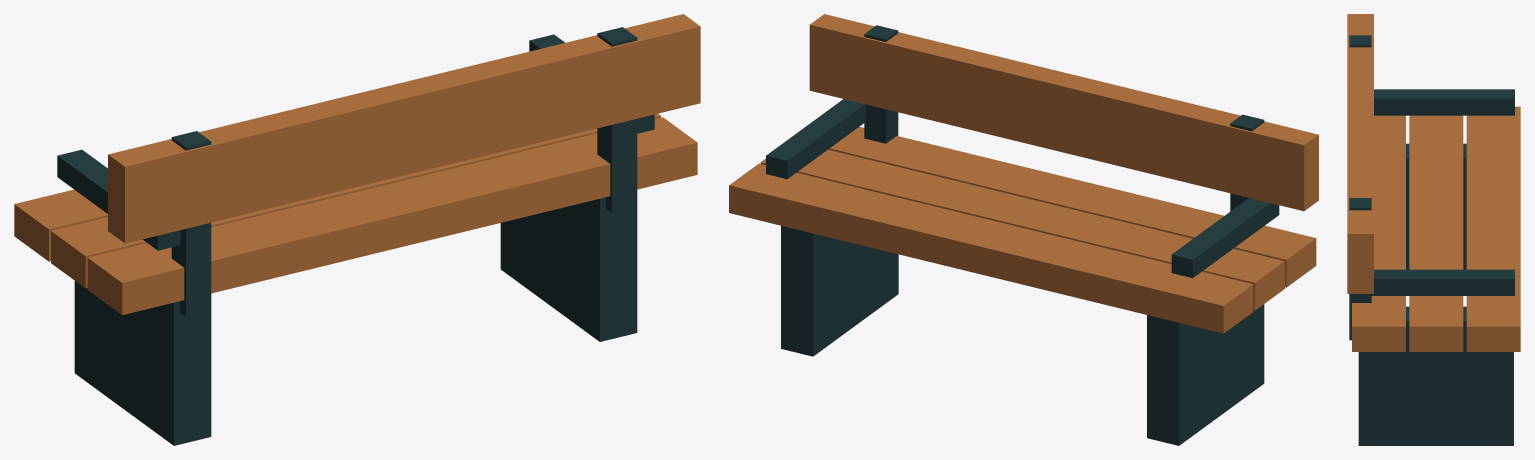
Rendered from bench_wood.fbx.
3 views of the same model, side by side, from view 1: azimuth 30°, elevation 25°; view 2: azimuth 150°, elevation 25°; view 3: azimuth 270°, elevation 25° (orthographic). The views are drawn at different scales.
Parts seen in each view (by area): view 1: bench_wood; view 2: bench_wood; view 3: bench_wood.
Part boxes in pixels (bbox=[...]): bench_wood: bbox=[14, 14, 700, 445]; bench_wood: bbox=[729, 14, 1318, 445]; bench_wood: bbox=[1347, 14, 1520, 445].
Size of the model in its own units: 1.8 by 0.9 by 0.6.
